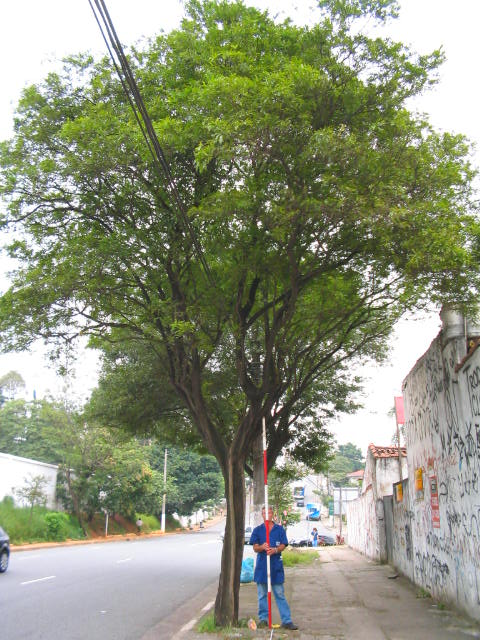crown: (3, 2, 477, 425)
stem: (205, 462, 255, 627)
stick: (256, 417, 279, 630)
tree: (1, 3, 477, 627)
